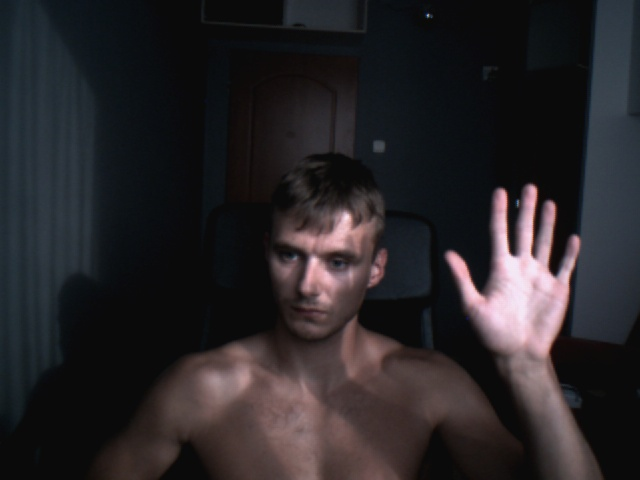open: (444, 184, 581, 365)
